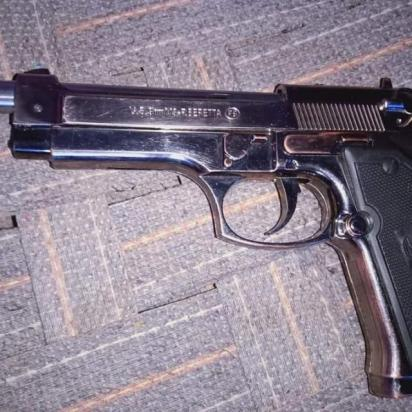Gun: (0, 62, 412, 412)
